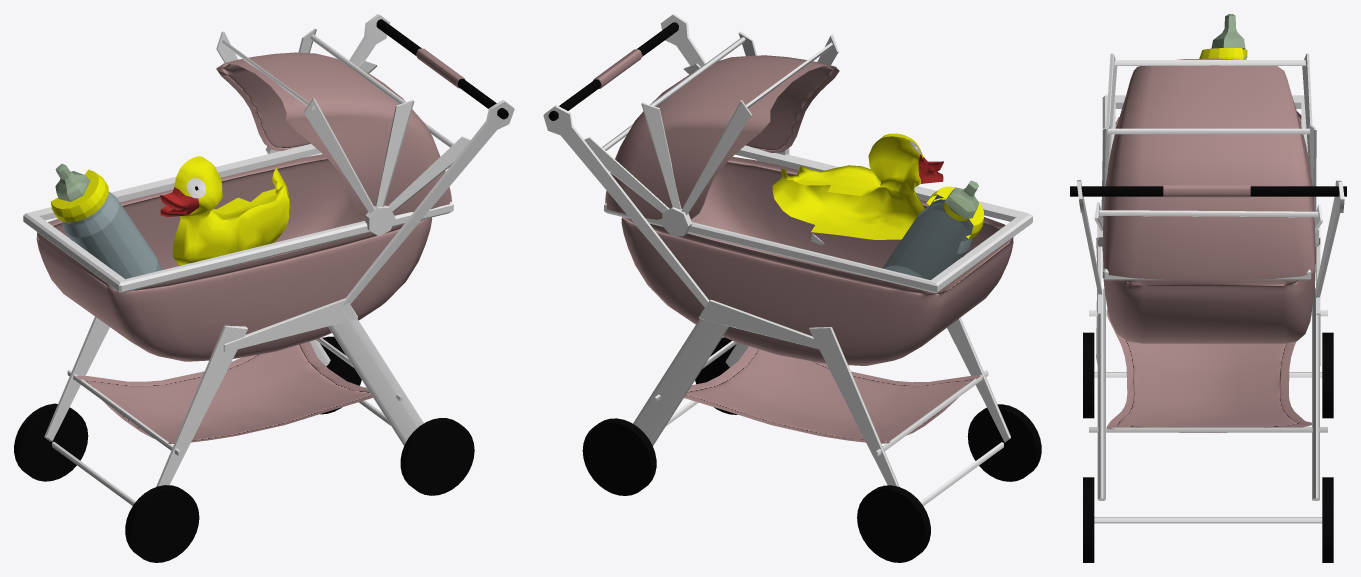
Rendered from Baby new fbx.fbx.
3 views of the same model, side by side, from view 1: azimuth 30°, elevation 25°; view 2: azimuth 150°, elevation 25°; view 3: azimuth 270°, elevation 25° (orthographic). The views are drawn at different scales.
Parts seen in each view (by area): view 1: pCube3, polySurface211, pTorus1, pPlane15, pCylinder22, polySurface302, polySurface299, polySurface213; view 2: pCube3, polySurface211, pTorus1, pPlane15, pCylinder22, polySurface302, polySurface299, polySurface213; view 3: pTorus1, polySurface211, pPlane15, pCube3, pCylinder22, polySurface213, polySurface299.
Part boxes in pixels (x1,y1,x2,y2): pCube3: (36,154,432,361); polySurface211: (23,14,514,505); pTorus1: (216,52,451,217); pPlane15: (76,341,372,443); pCylinder22: (14,336,474,562); polySurface302: (160,156,290,265); polySurface299: (50,164,162,279); polySurface213: (376,19,508,119); pCube3: (621,157,1013,365); polySurface211: (543,14,1032,505); pTorus1: (605,55,839,219); pPlane15: (684,346,980,443); pCylinder22: (582,337,1041,562); polySurface302: (772,133,943,239); polySurface299: (876,180,983,279); polySurface213: (548,22,678,120); pTorus1: (1102,58,1315,280); polySurface211: (1077,53,1344,523); pPlane15: (1107,308,1312,433); pCube3: (1102,111,1316,343); pCylinder22: (1083,332,1333,562); polySurface213: (1070,185,1346,197); polySurface299: (1199,14,1247,59).
Bounding box in the file's own units: 12.08 × 12.27 × 6.9.
